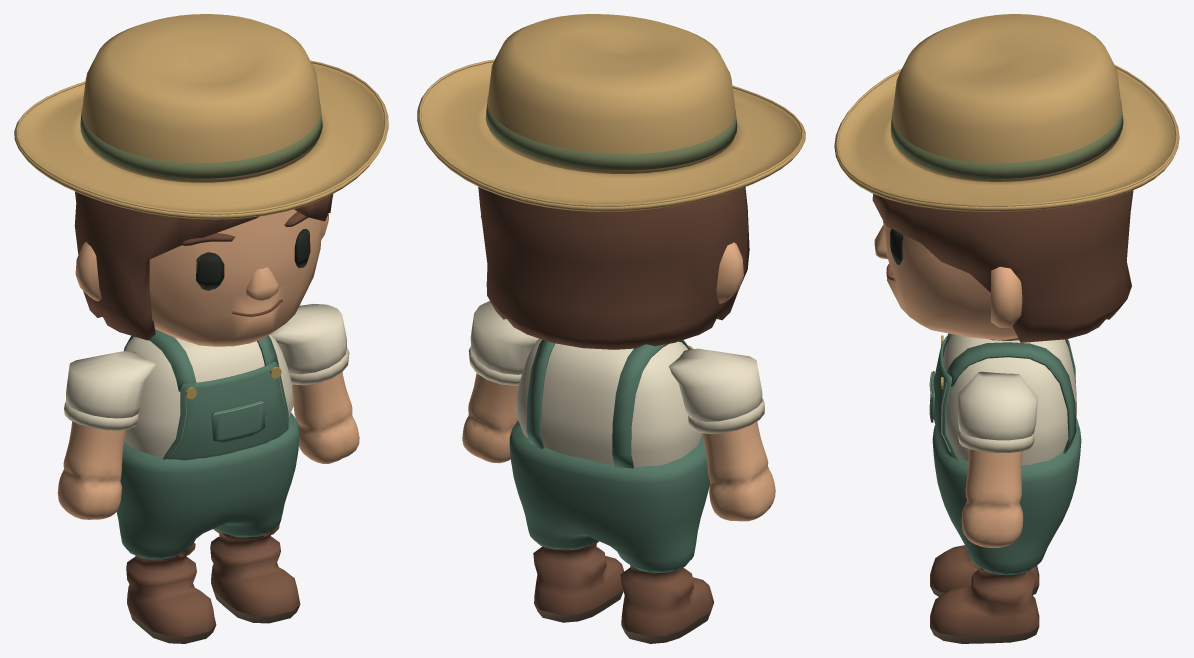
The model's file is gardener-v038.glb.
3 views of the same model, side by side, from view 1: azimuth 30°, elevation 25°; view 2: azimuth 150°, elevation 25°; view 3: azimuth 270°, elevation 25° (orthographic). The views are drawn at different scales.
Visible parts, largest first — view 1: Straw crown • shaped shoulder and shallow top, Straw brim • cambered oval with rolled lip, Face and ears • adapted KayKit topology, Overalls • continuous waist seat crotch and legs, Hair • shortened swept cut and brows, Shirt • shaped shoulder and torso mesh, Bib • fitted curved denim, Boot 1 • adapted KayKit mesh, Boot -1 • adapted KayKit mesh, Arm R • mirrored continuous forearm, Sleeve -1, Arm L • KayKit hand and continuous forearm (+8 smaller); view 2: Hair • shortened swept cut and brows, Straw crown • shaped shoulder and shallow top, Straw brim • cambered oval with rolled lip, Overalls • continuous waist seat crotch and legs, Shirt • shaped shoulder and torso mesh, Boot 1 • adapted KayKit mesh, Boot -1 • adapted KayKit mesh, Arm R • mirrored continuous forearm, Sleeve -1, Hat ribbon • fitted olive band, Arm L • KayKit hand and continuous forearm, Sleeve 1 (+6 smaller); view 3: Straw crown • shaped shoulder and shallow top, Hair • shortened swept cut and brows, Straw brim • cambered oval with rolled lip, Face and ears • adapted KayKit topology, Overalls • continuous waist seat crotch and legs, Shirt • shaped shoulder and torso mesh, Boot 1 • adapted KayKit mesh, Arm L • KayKit hand and continuous forearm, Sleeve 1, Hat ribbon • fitted olive band, Shoulder strap 1, Boot -1 • adapted KayKit mesh (+3 smaller).
Boxes of the visible parts, <box> form: Straw crown • shaped shoulder and shallow top: <box>82,14,320,182</box>; Straw brim • cambered oval with rolled lip: <box>14,63,388,219</box>; Face and ears • adapted KayKit topology: <box>75,209,328,346</box>; Overalls • continuous waist seat crotch and legs: <box>116,413,299,559</box>; Hair • shortened swept cut and brows: <box>74,191,333,340</box>; Shirt • shaped shoulder and torso mesh: <box>124,334,293,456</box>; Bib • fitted curved denim: <box>163,361,288,460</box>; Boot 1 • adapted KayKit mesh: <box>210,524,300,623</box>; Boot -1 • adapted KayKit mesh: <box>126,543,216,643</box>; Arm R • mirrored continuous forearm: <box>57,421,126,519</box>; Sleeve -1: <box>66,351,156,418</box>; Arm L • KayKit hand and continuous forearm: <box>292,372,359,463</box>; Hair • shortened swept cut and brows: <box>478,187,749,349</box>; Straw crown • shaped shoulder and shallow top: <box>487,14,735,173</box>; Straw brim • cambered oval with rolled lip: <box>417,62,805,211</box>; Overalls • continuous waist seat crotch and legs: <box>509,420,709,573</box>; Shirt • shaped shoulder and torso mesh: <box>515,338,702,466</box>; Boot 1 • adapted KayKit mesh: <box>533,541,624,622</box>; Boot -1 • adapted KayKit mesh: <box>620,565,713,643</box>; Arm R • mirrored continuous forearm: <box>701,421,775,521</box>; Sleeve -1: <box>668,348,762,421</box>; Hat ribbon • fitted olive band: <box>485,98,737,170</box>; Arm L • KayKit hand and continuous forearm: <box>462,373,518,463</box>; Sleeve 1: <box>470,301,538,374</box>; Straw crown • shaped shoulder and shallow top: <box>892,14,1121,181</box>; Hair • shortened swept cut and brows: <box>872,190,1133,342</box>; Straw brim • cambered oval with rolled lip: <box>834,68,1179,211</box>; Face and ears • adapted KayKit topology: <box>874,221,1022,340</box>; Overalls • continuous waist seat crotch and legs: <box>932,418,1081,575</box>; Shirt • shaped shoulder and torso mesh: <box>943,334,1076,465</box>; Boot 1 • adapted KayKit mesh: <box>930,559,1039,643</box>; Arm L • KayKit hand and continuous forearm: <box>961,449,1023,547</box>; Sleeve 1: <box>958,371,1037,440</box>; Hat ribbon • fitted olive band: <box>890,100,1123,179</box>; Shoulder strap 1: <box>946,342,1076,453</box>; Boot -1 • adapted KayKit mesh: <box>930,545,1039,596</box>.
Bounding box in the file's own units: 1.46 × 2.31 × 1.3.
